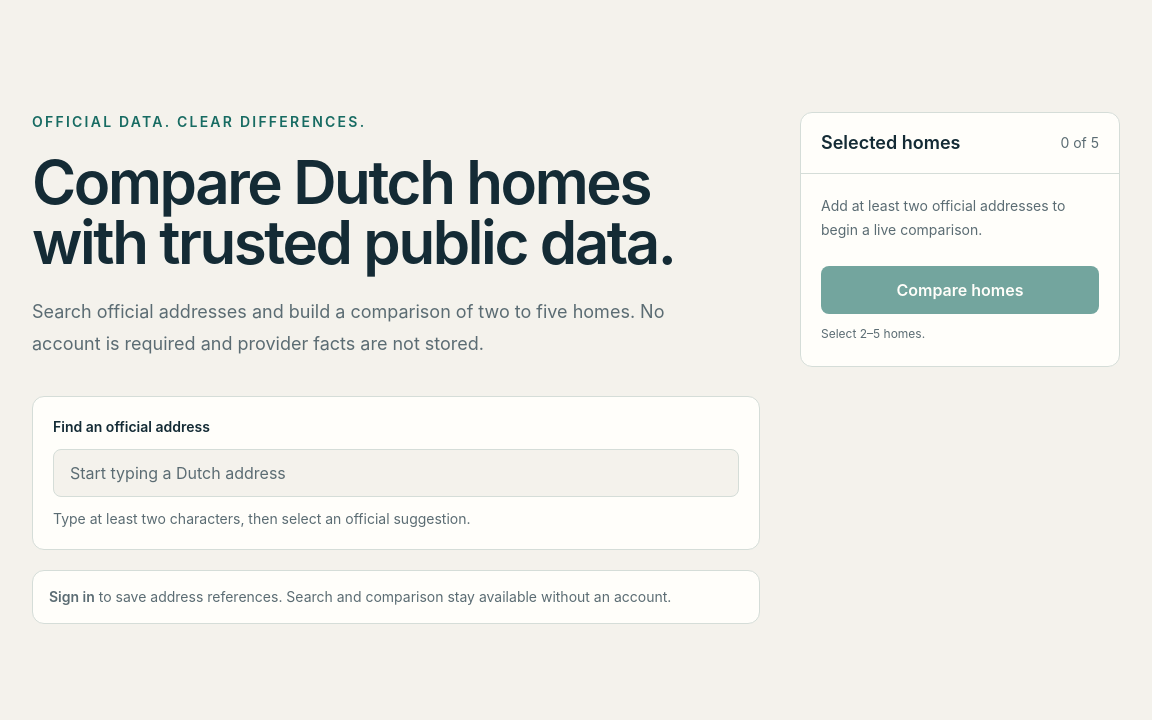
Test: ComparisonBuilder › selects an official suggestion with the keyboard
In the dropdown: coordinates (396, 473) [53,449,739,497], type "Examplelaan 10"
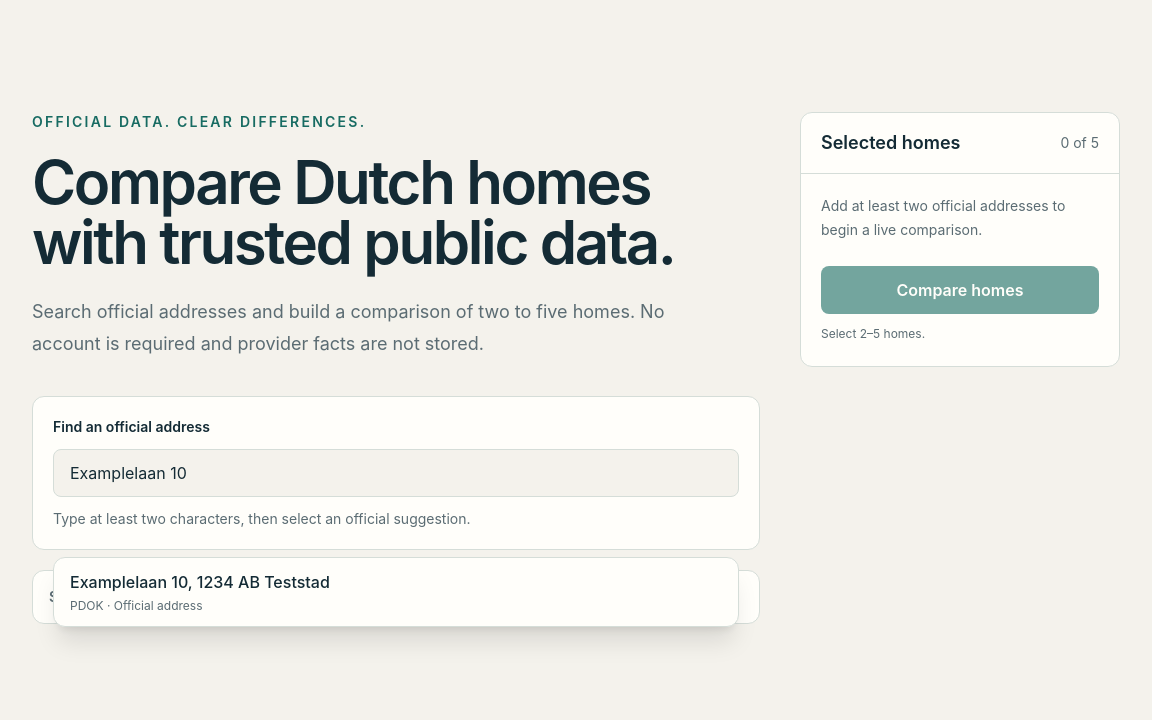
Press ArrowDown in the dropdown, box [53,449,739,497]
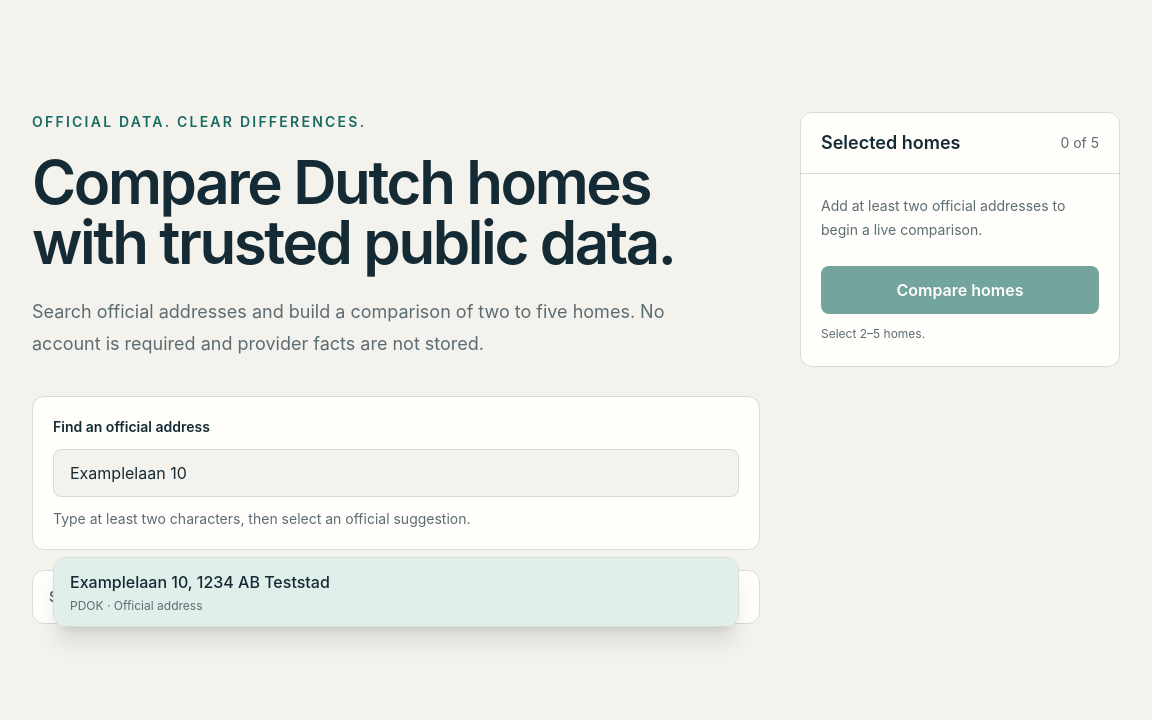
Press Enter in the dropdown, box [53,449,739,497]
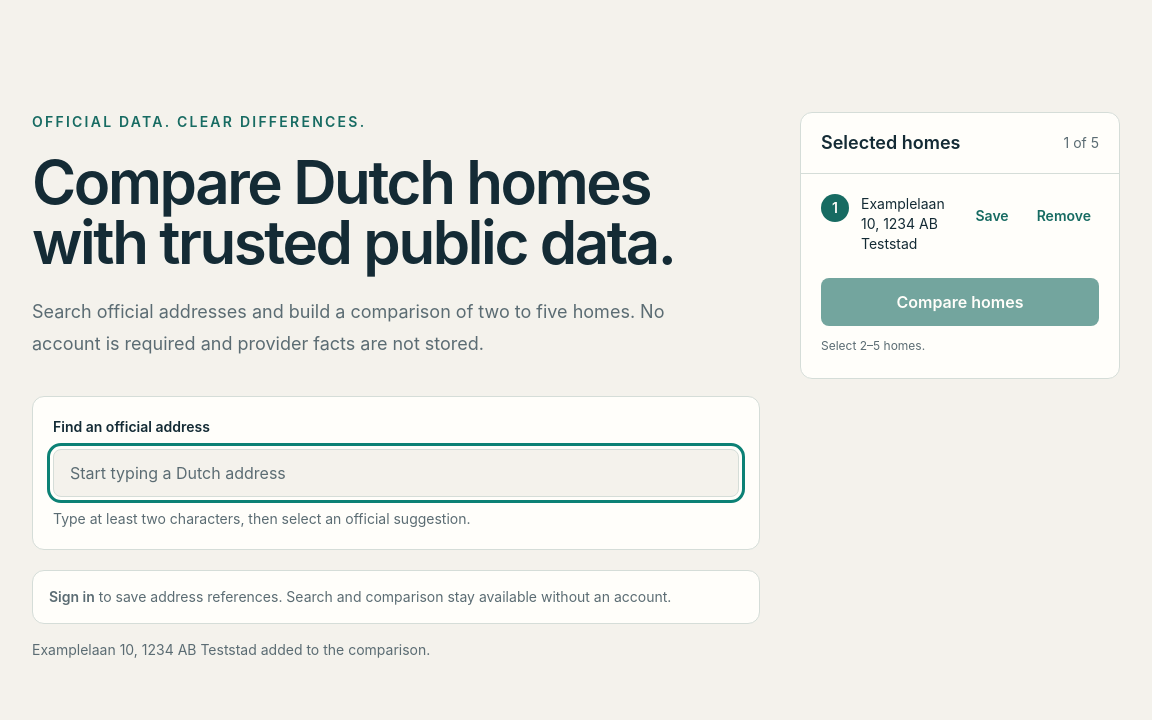
Check: the button "Compare homes" is disabled, box [821,278,1099,326]
Check: the text "1 of 5" is shown, box [1064,133,1099,153]
